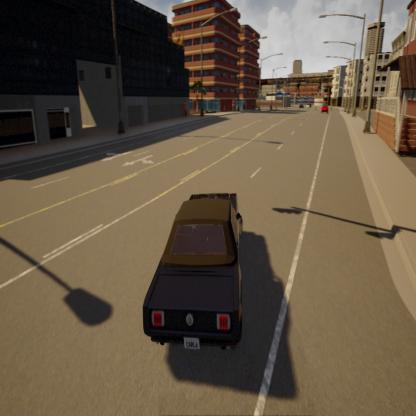Cars: (138, 164, 256, 364)
